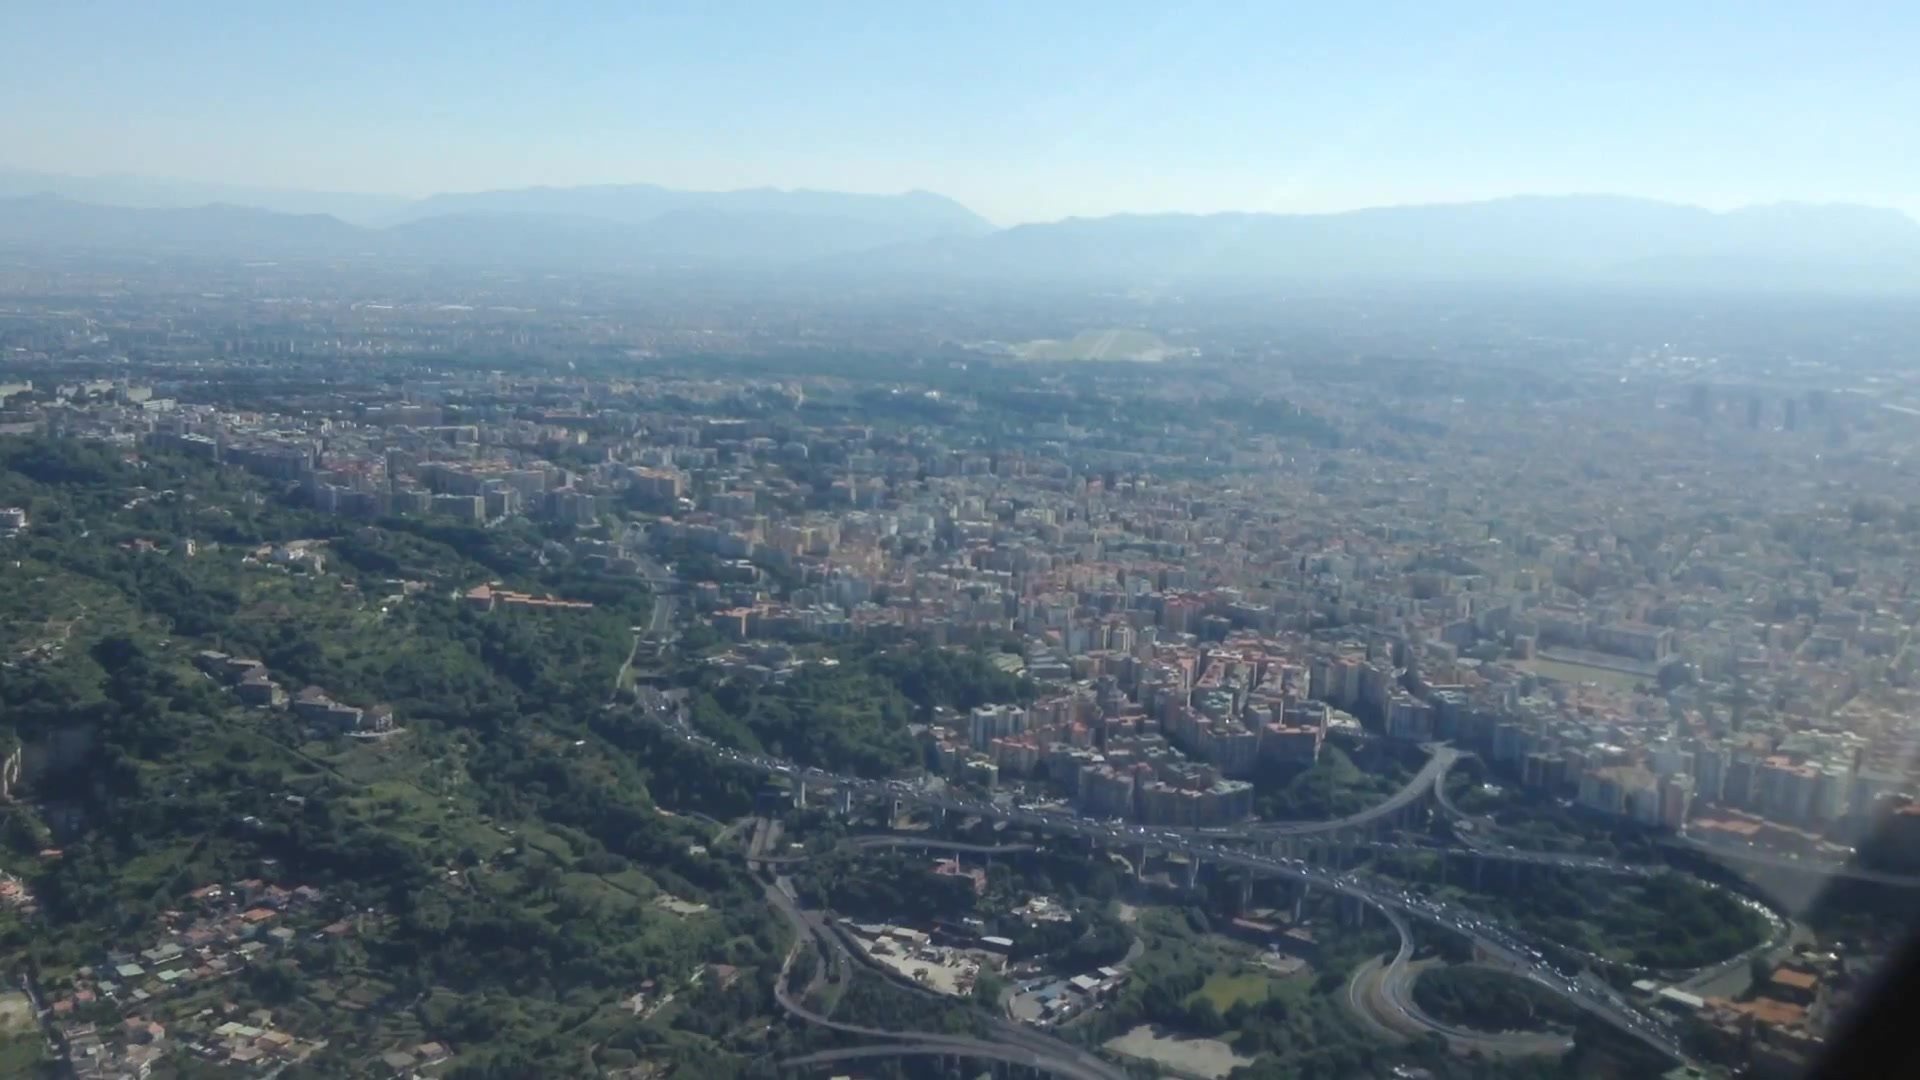runway: (1084, 331, 1120, 359)
